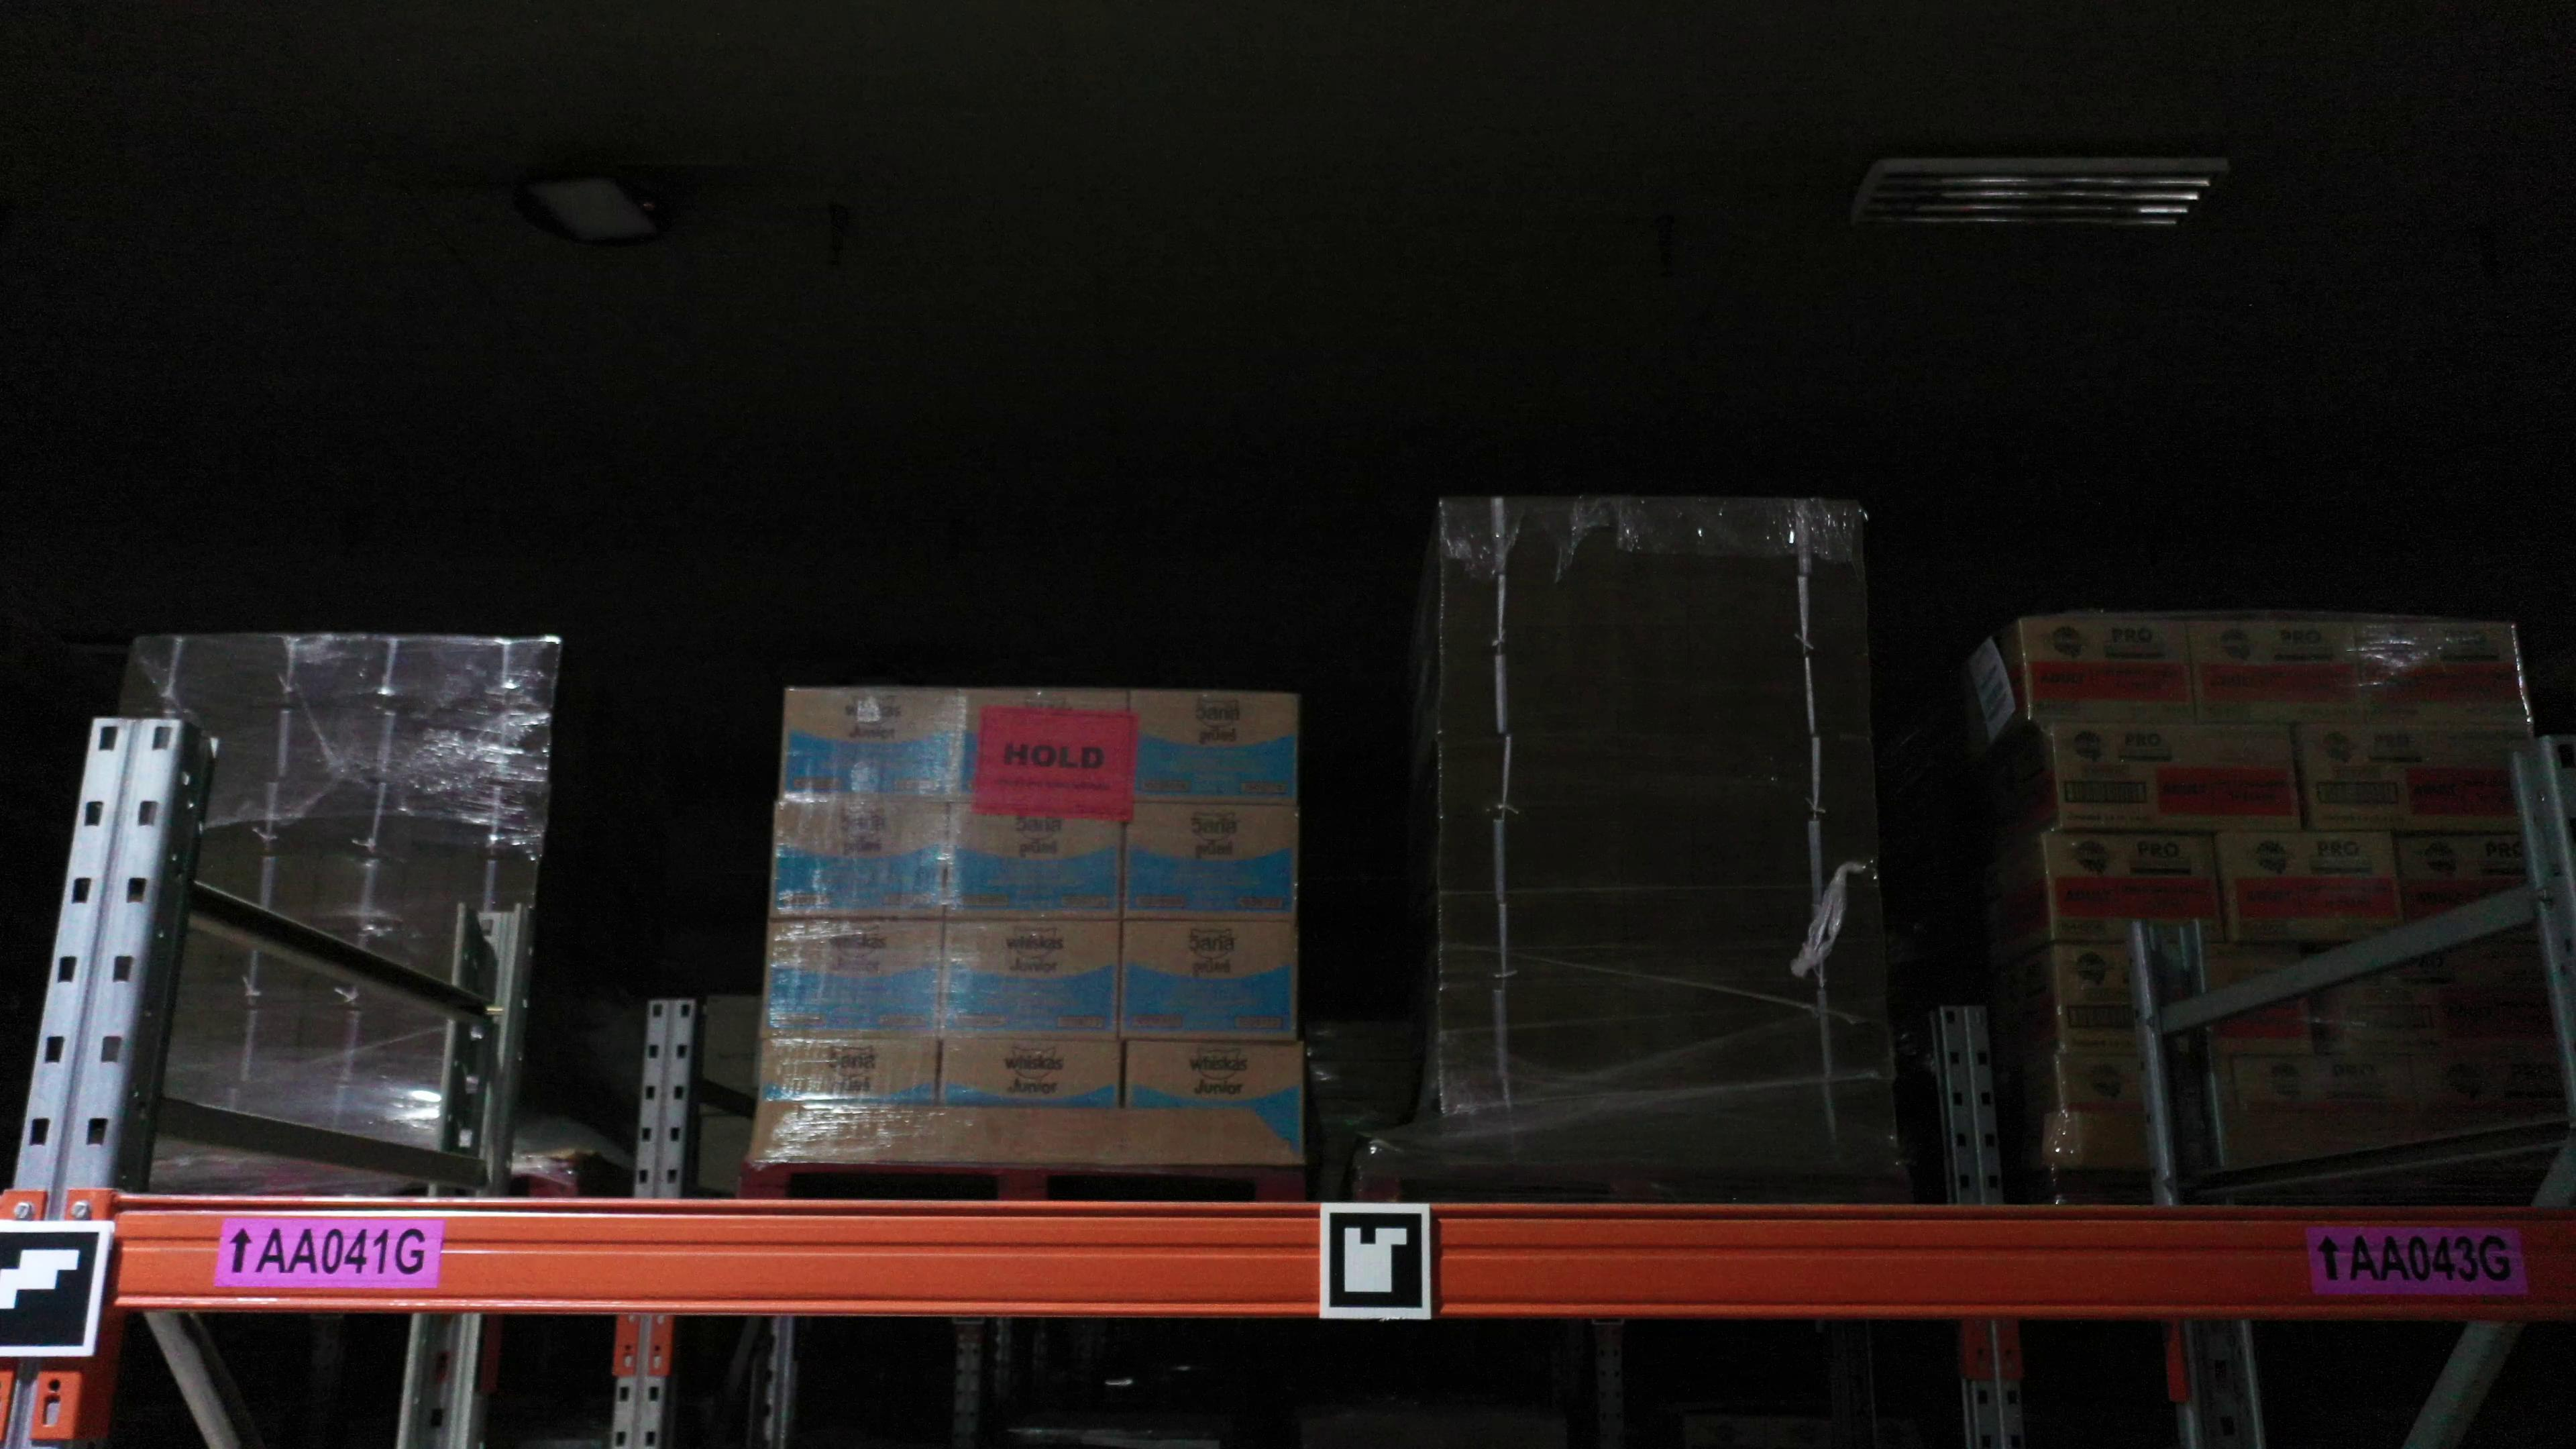box: (2058, 947, 2316, 1060), (2047, 720, 2302, 832), (2334, 947, 2564, 1065), (2304, 724, 2539, 835), (1120, 1039, 1304, 1164), (934, 920, 1123, 1042), (763, 920, 947, 1042), (1116, 918, 1295, 1042), (778, 686, 961, 807), (1122, 803, 1300, 924), (2222, 826, 2408, 941), (768, 803, 950, 920), (941, 801, 1123, 918), (955, 686, 1131, 807), (1123, 688, 1299, 807), (2042, 828, 2222, 941), (2019, 614, 2197, 724), (2360, 617, 2534, 729), (2185, 619, 2364, 727), (2399, 835, 2541, 947), (932, 1039, 1123, 1115), (755, 1037, 941, 1104), (2236, 1054, 2422, 1116), (2058, 1056, 2238, 1116), (2420, 1054, 2569, 1116)
